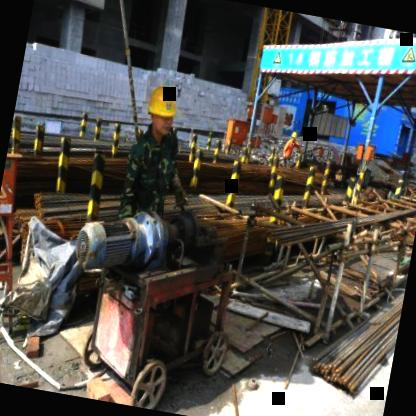helmet: (139, 78, 182, 143)
